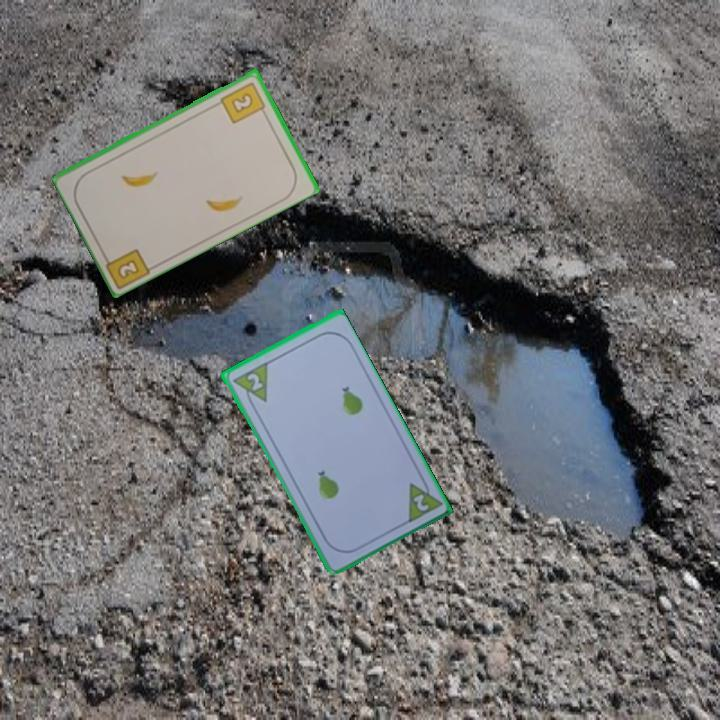2b: (217, 78, 269, 126), (99, 245, 154, 290)
2p: (402, 472, 444, 526), (228, 359, 271, 411)
